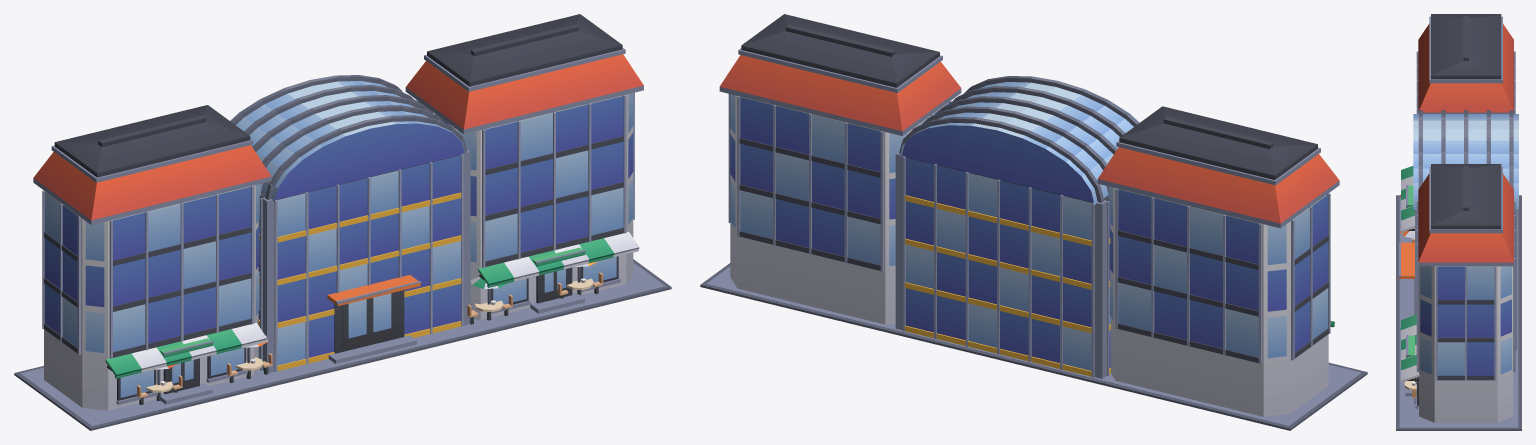
File: com_glass_arcade_4x1.glb
3 renders of one model, left to right at view 1: azimuth 30°, elevation 25°; view 2: azimuth 150°, elevation 25°; view 3: azimuth 270°, elevation 25°, orthographic. The views are drawn at different scales.
Parts seen in each view (by area): view 1: com_glass_arcade_4x1; view 2: com_glass_arcade_4x1; view 3: com_glass_arcade_4x1.
Boxes of the visible parts, x1,y1,x2,y2 form: com_glass_arcade_4x1: [14, 14, 671, 430]; com_glass_arcade_4x1: [700, 14, 1367, 430]; com_glass_arcade_4x1: [1396, 14, 1521, 430].
Size of the model in its own units: 7.74 by 3.12 by 1.76.
1 material, 1 textured.
